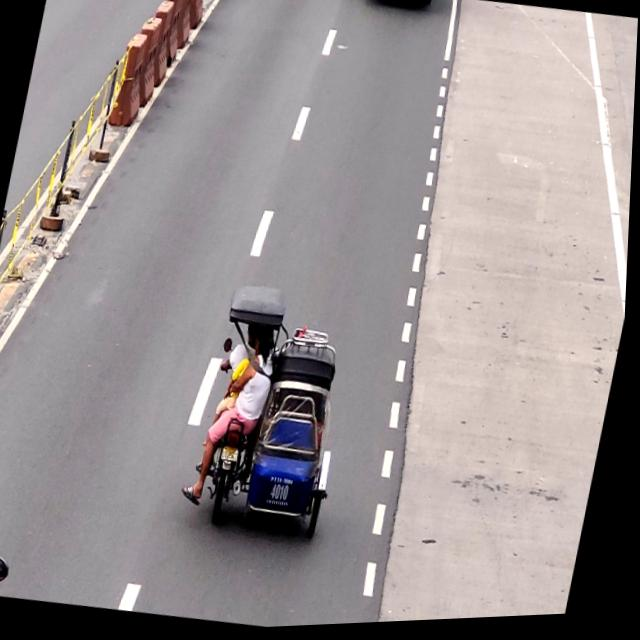License-Plate: (221, 444, 248, 470)
Tricycle: (189, 282, 370, 540)
